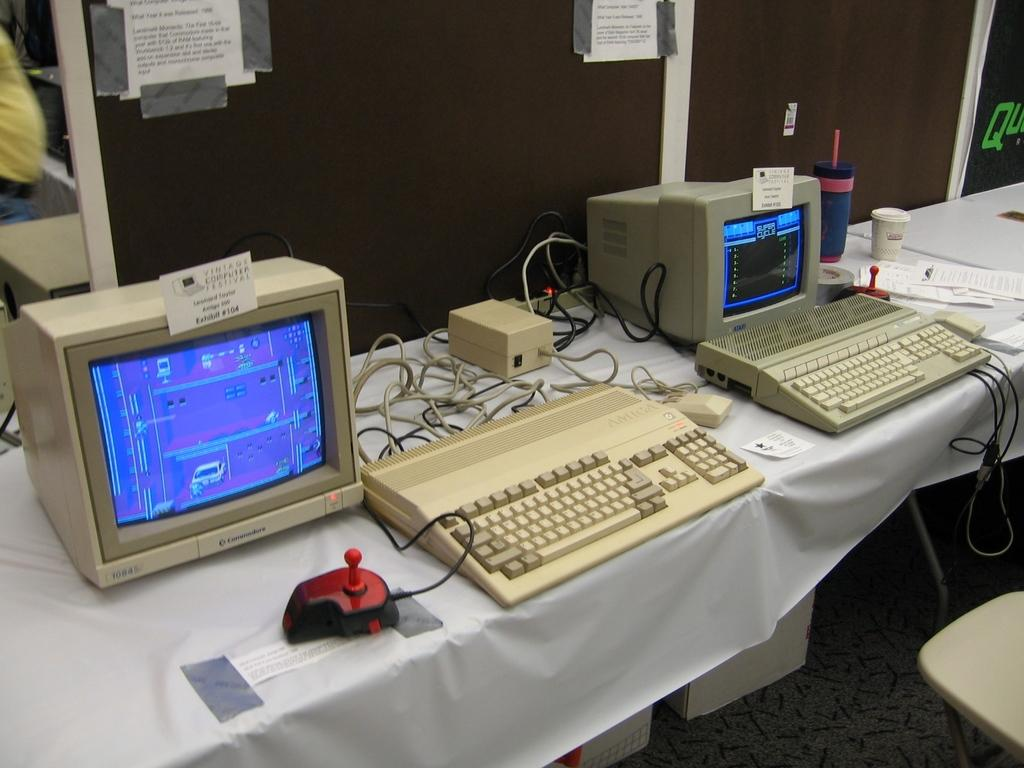Computer-keyboard: (355, 383, 763, 610), (691, 292, 991, 435)
Computer-monitor: (28, 250, 371, 598), (586, 175, 831, 348)
